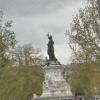Statue: (39, 26, 73, 76)
